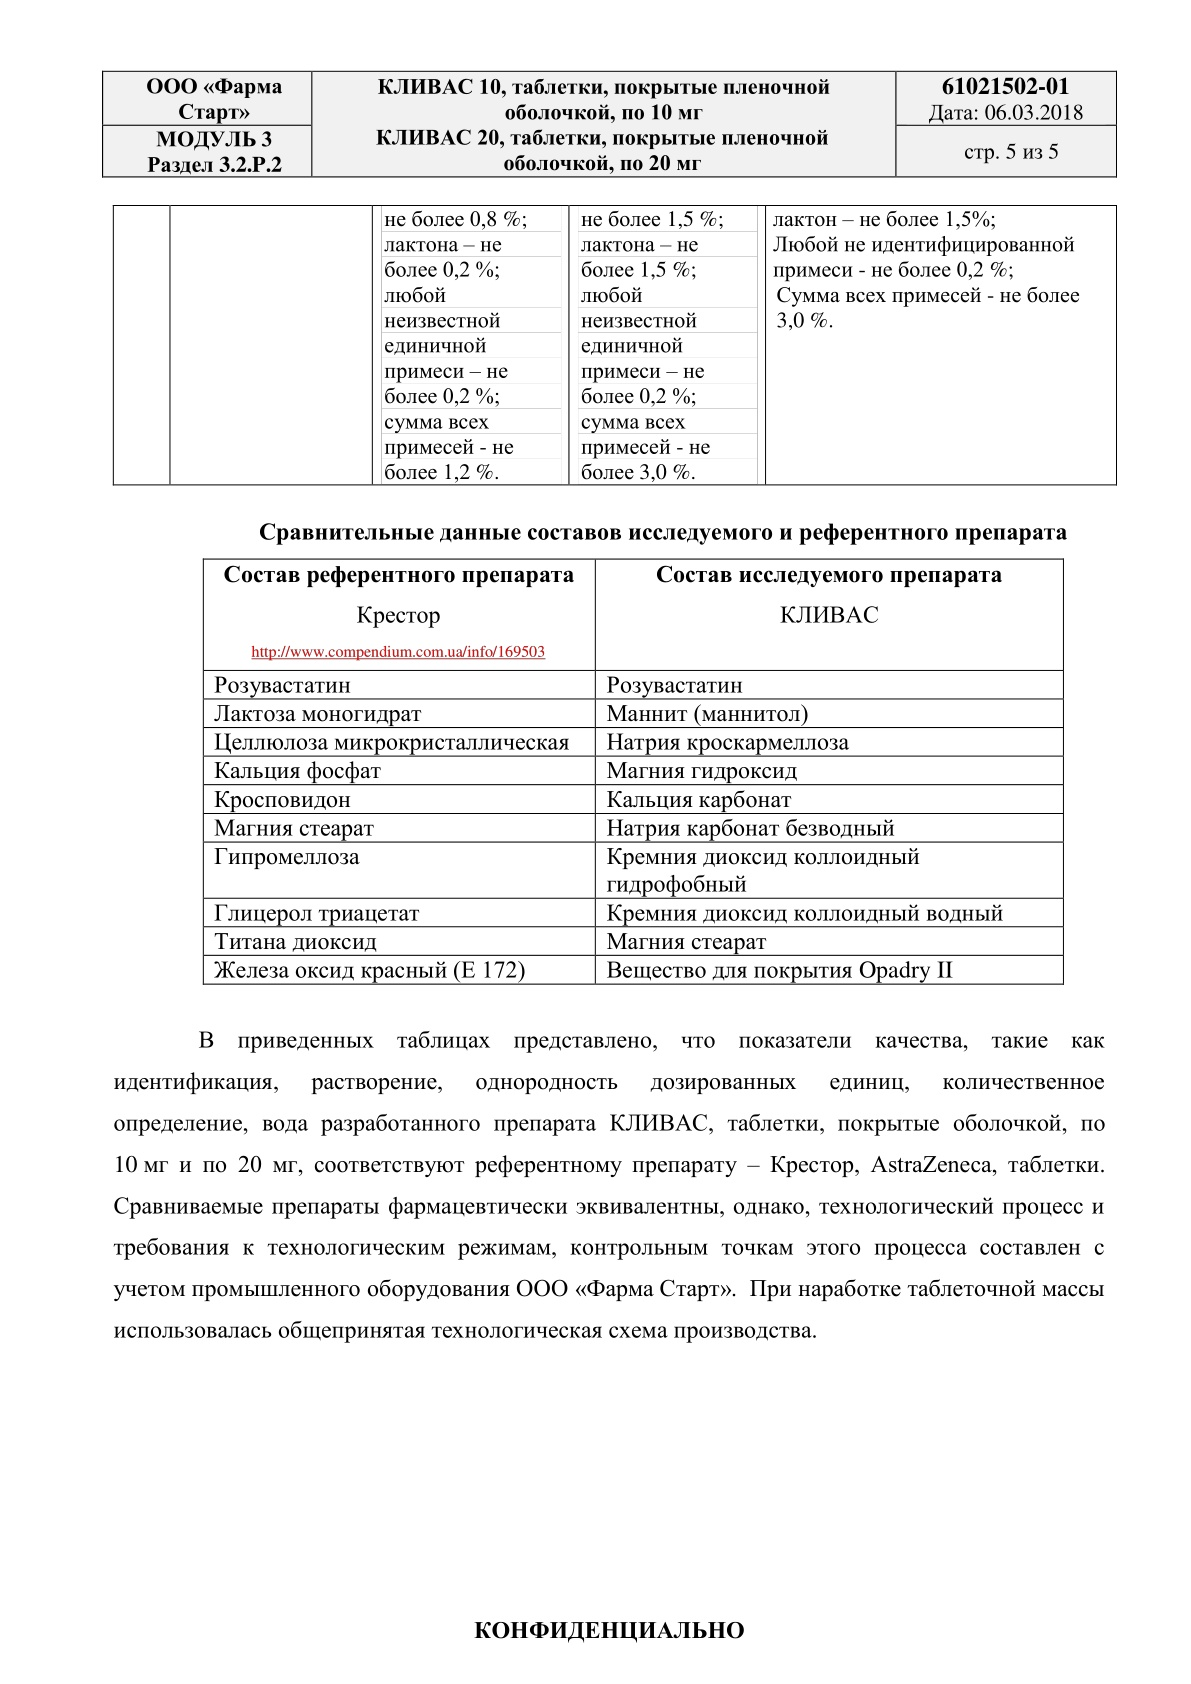full_lined: (202, 557, 1065, 984), (111, 204, 1118, 486)
merged_cells: (101, 70, 1118, 178)
